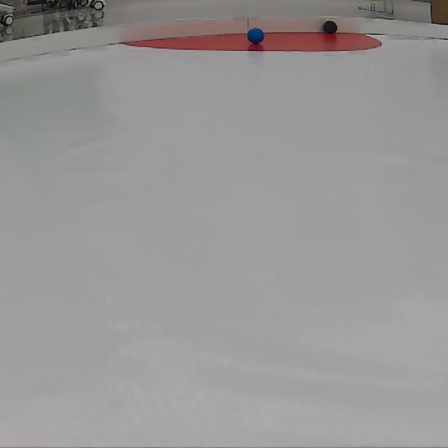black: (322, 21, 339, 34)
blue: (247, 27, 268, 45)
red_base: (122, 28, 383, 54)
